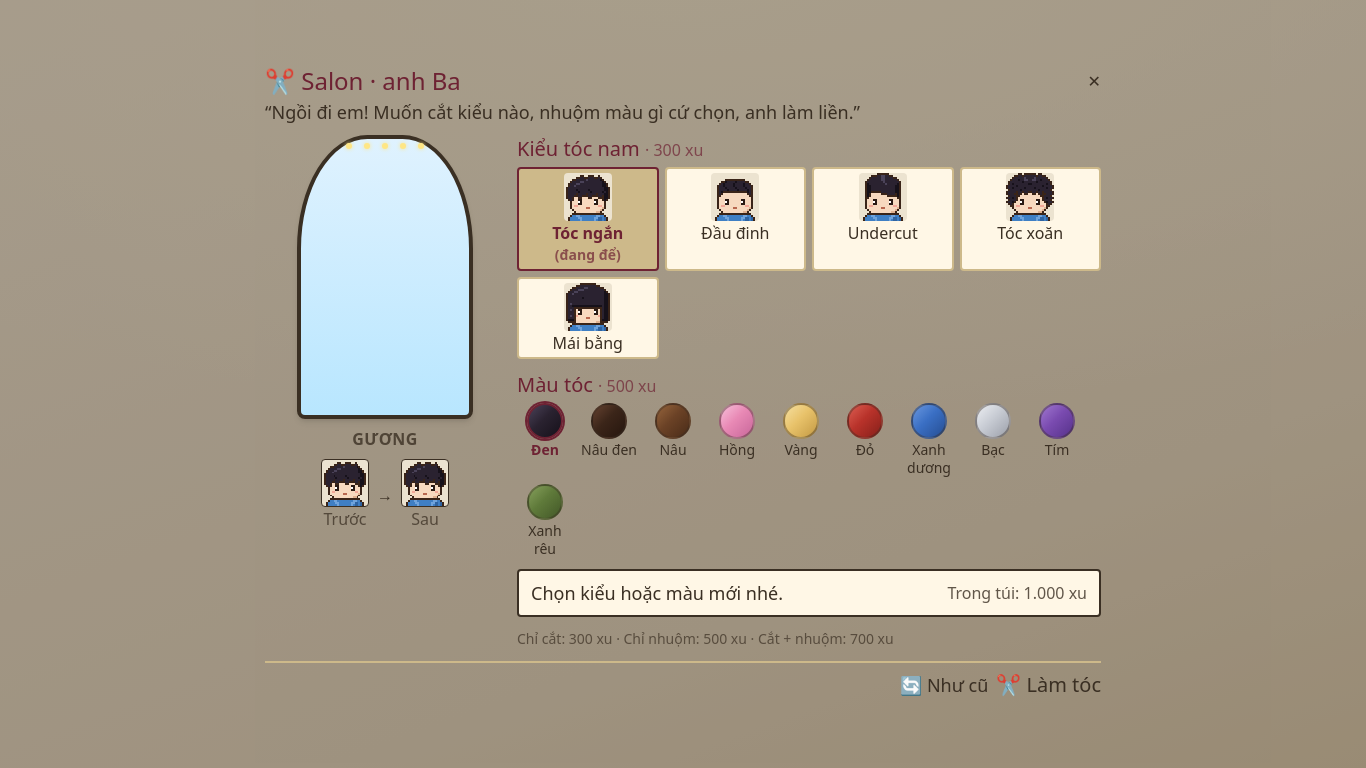
Test: SalonModal › shows 300 for a style, then 700 with a colour too
The image size is (1366, 768).
Step 1. Click the button "Tóc xoăn" → coordinates (1030, 219), box [960,167,1101,271]
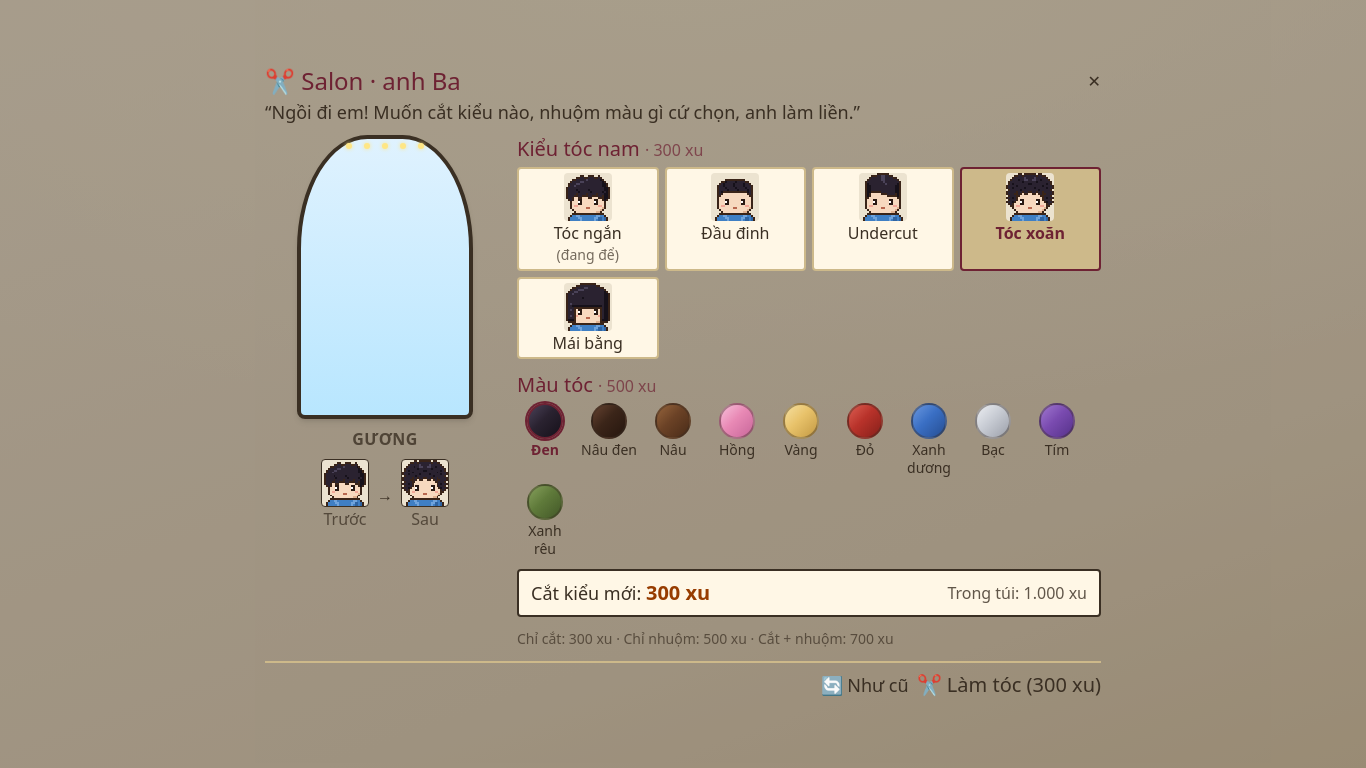
Check: the element with test id "salon-price" shows "300", box [646,579,710,606]
Check: the button "✂️ Làm tóc (300 xu)" is shown, box [917,671,1101,699]
Step 2. Click the button "Xanh dương" → coordinates (929, 440), box [901,403,957,476]
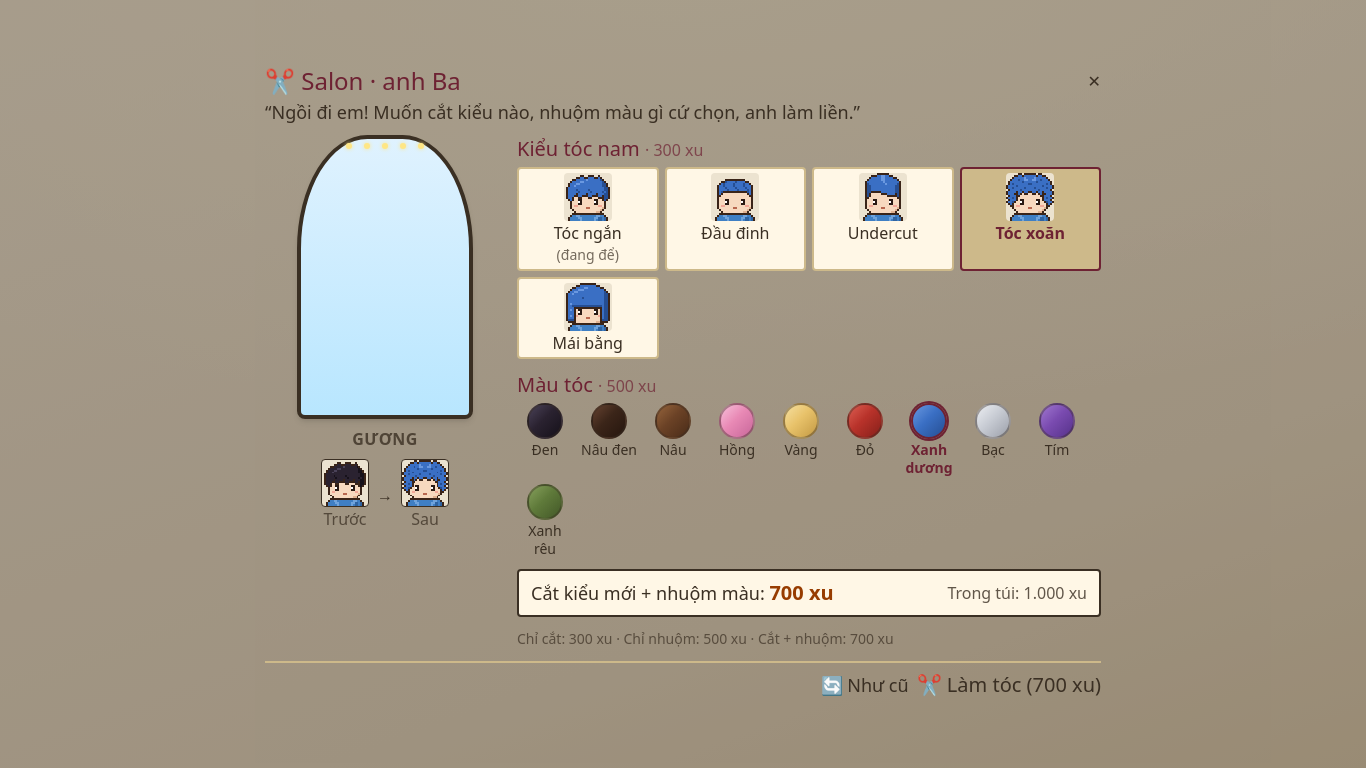
Check: the element with test id "salon-price" shows "700", box [769,579,834,606]
Check: the button "✂️ Làm tóc (700 xu)" is shown, box [917,671,1101,699]
